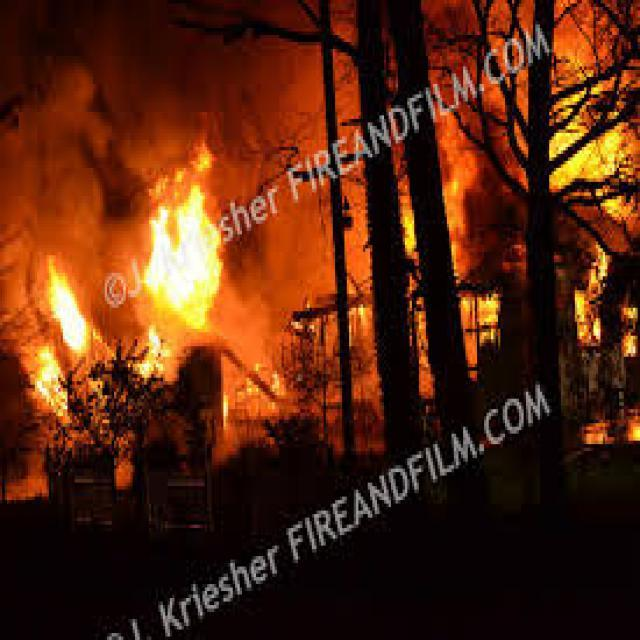fire: (42, 182, 228, 429)
